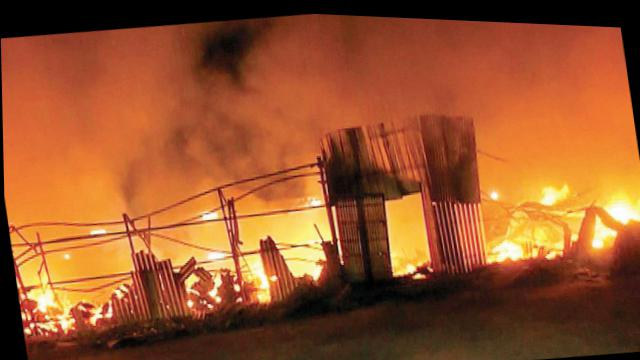fire: (607, 187, 639, 222), (492, 236, 527, 263), (25, 287, 55, 316), (586, 210, 613, 242), (539, 177, 572, 201), (247, 256, 268, 292), (190, 204, 222, 224), (300, 190, 323, 207), (84, 223, 108, 239), (485, 185, 500, 200)
smoke: (0, 15, 201, 166), (464, 16, 639, 186), (262, 9, 478, 134), (2, 134, 209, 226), (201, 121, 327, 175), (190, 60, 276, 138), (238, 164, 317, 198), (384, 192, 424, 253), (73, 237, 126, 275), (238, 203, 322, 225), (43, 222, 62, 281)
